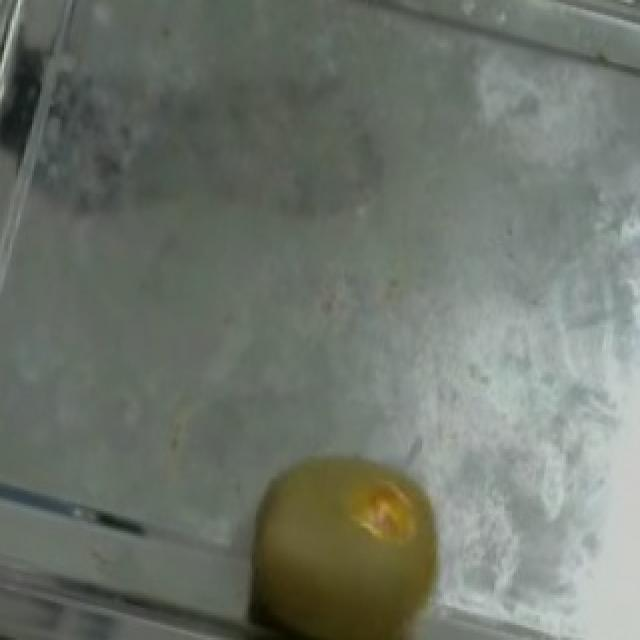Fruit: (210, 421, 476, 640)
